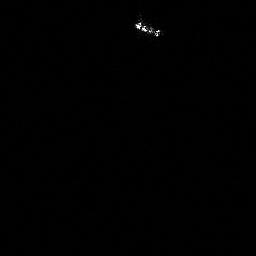ship: (130, 15, 164, 40)
